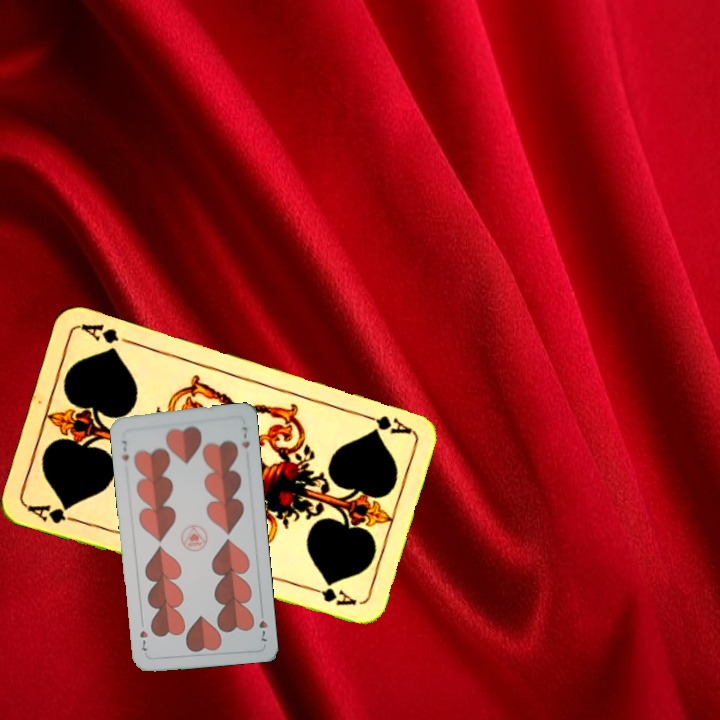GA: (355, 409, 413, 437), (23, 500, 82, 527)
H7: (255, 617, 270, 646), (118, 436, 132, 463)
